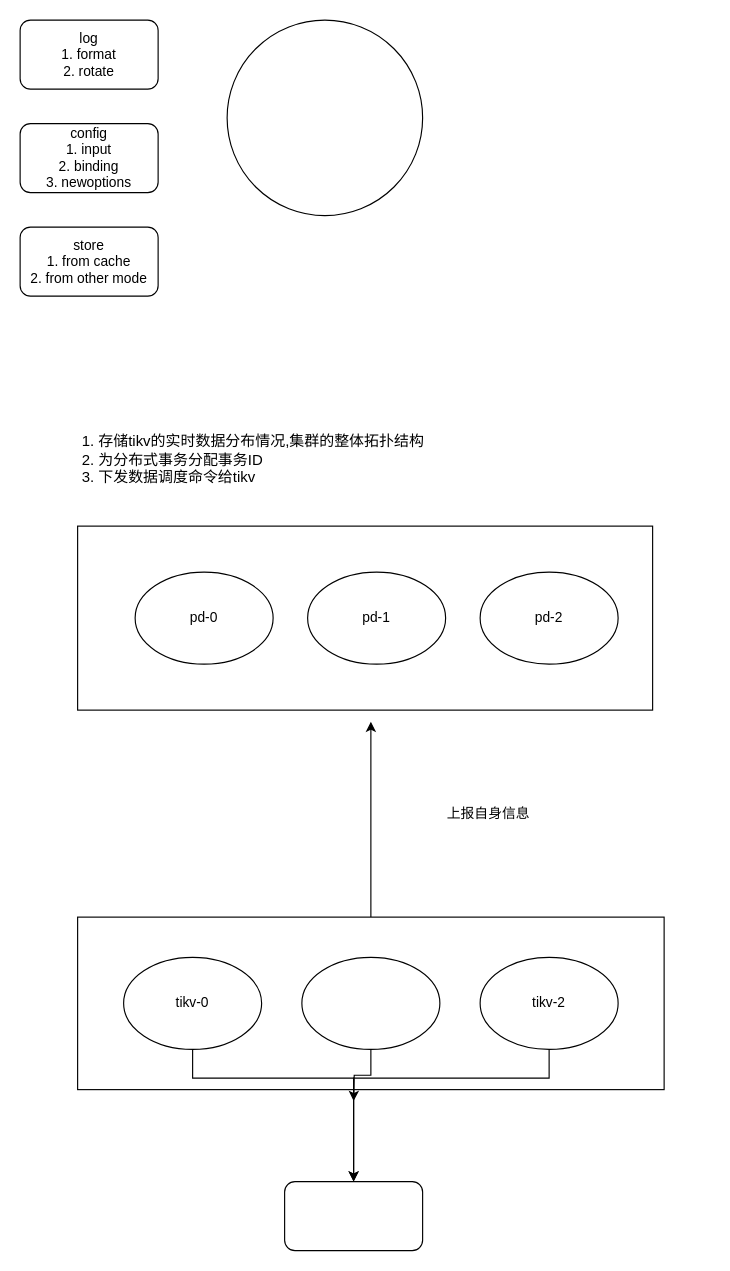
Some shapes in this 730 by 1271 pixel diagram are drawn without their labels. Here are the shapes that lost their labels. From the top down, the centre of each, then its label:
point (324, 117): 智能监控 1. 监控指标,自动恢复 2. 预警通知 3. 常用问题推送
point (370, 1002): tikv-1
point (353, 1215): rocks
